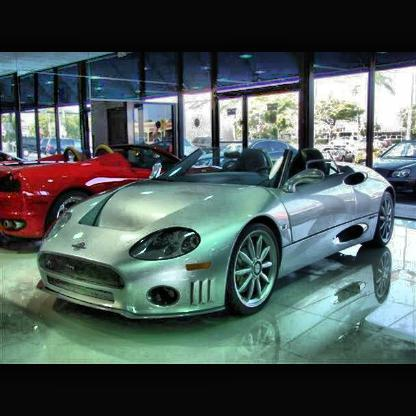Spyker C8 Convertible 2009: (35, 147, 399, 323)
